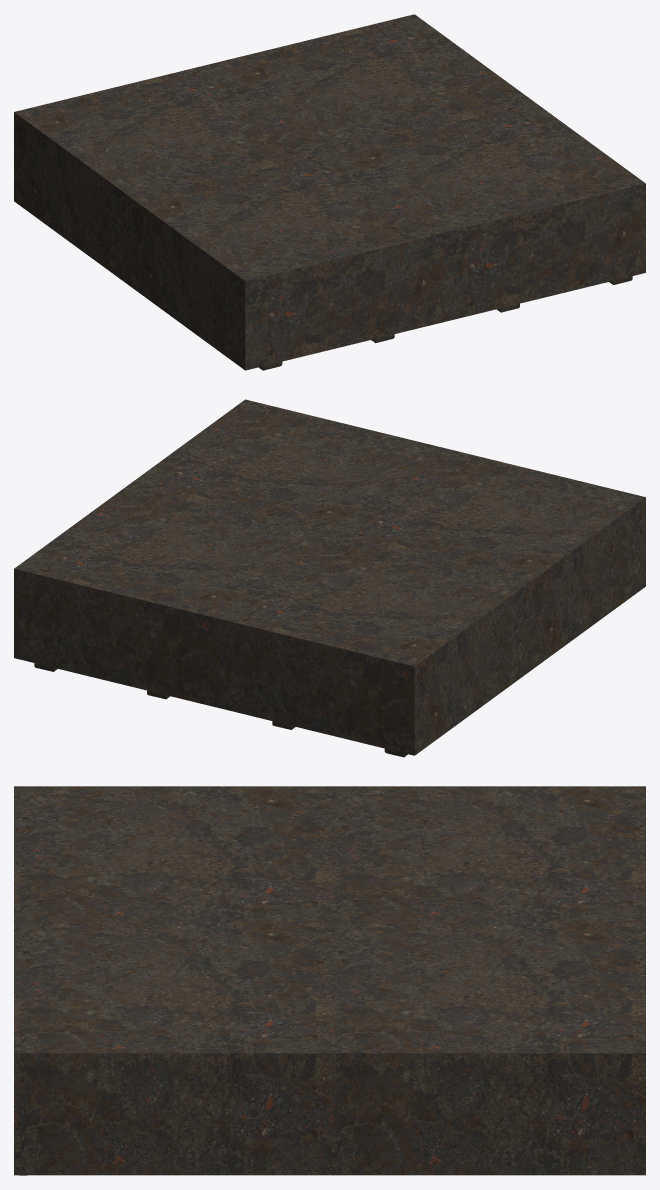
Rendered from Basement_Corridor_B_Ceiling_4x4m.glb.
3 renders of one model, top to bottom at view 1: azimuth 30°, elevation 25°; view 2: azimuth 150°, elevation 25°; view 3: azimuth 270°, elevation 25°, orthographic. The views are drawn at different scales.
Visible parts, largest first — view 1: Basement_Corridor_B_Ceiling_4x4m; view 2: Basement_Corridor_B_Ceiling_4x4m; view 3: Basement_Corridor_B_Ceiling_4x4m.
Part boxes in pixels (x1,y1,x2,y2): Basement_Corridor_B_Ceiling_4x4m: [14, 14, 645, 370]; Basement_Corridor_B_Ceiling_4x4m: [14, 399, 645, 757]; Basement_Corridor_B_Ceiling_4x4m: [14, 786, 645, 1175].
Bounding box in the file's own units: 4 × 0.911 × 4.
Materials: 2 (2 with a texture image).
